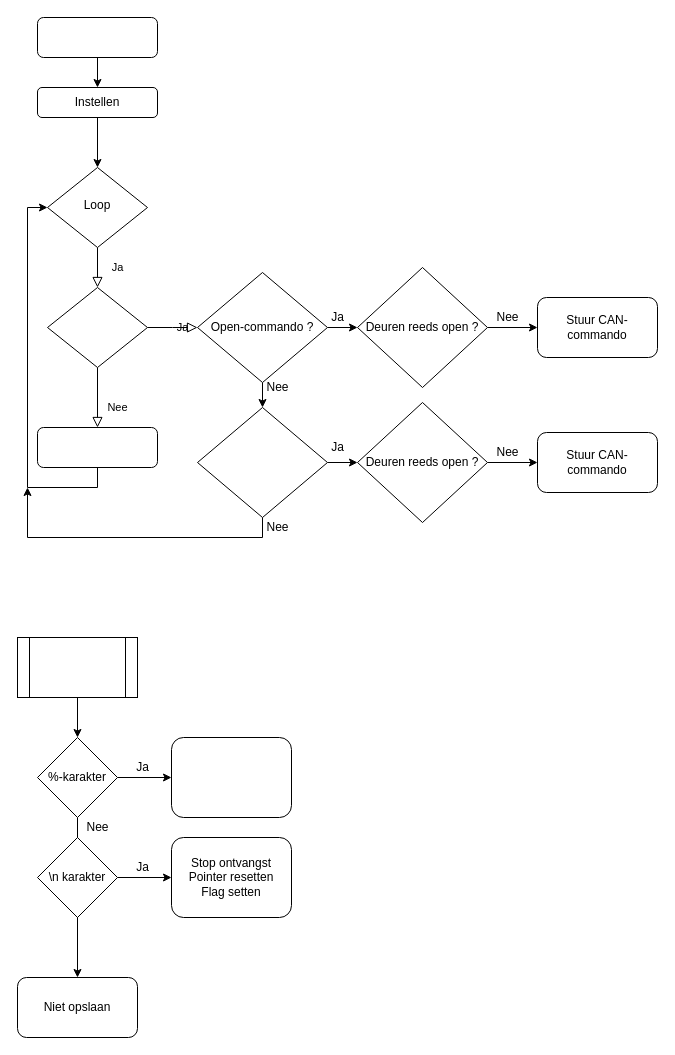
The diagram is 675 pixels wide and 1055 high, and some of its shapes have lost their labels. The box of each missing label's shape, as (x1, y1, x2, y2) in pixels:
Commando ontvangen ?: (46, 286, 148, 368)
Delay: (36, 426, 158, 468)
Interrupt RX: (16, 636, 138, 698)
Sluit-commando ?: (196, 406, 328, 518)
Start: (36, 16, 158, 58)
Start ontvangst Opslaan in buffer Pointer verschuiven: (170, 736, 292, 818)
